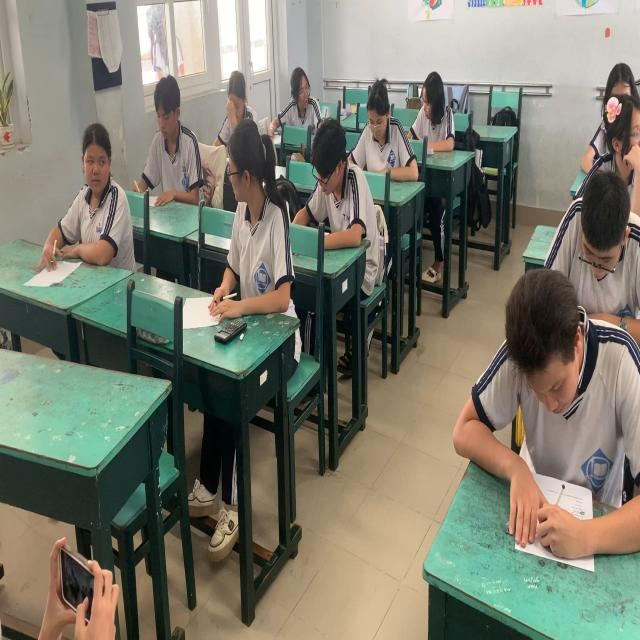cheating: (211, 116, 292, 325), (67, 120, 136, 278), (282, 56, 326, 130)
not_cheating: (481, 258, 640, 507), (556, 163, 640, 293), (297, 115, 370, 253), (143, 65, 203, 202), (352, 71, 412, 181), (595, 67, 640, 187), (415, 63, 461, 152), (212, 61, 260, 132)
